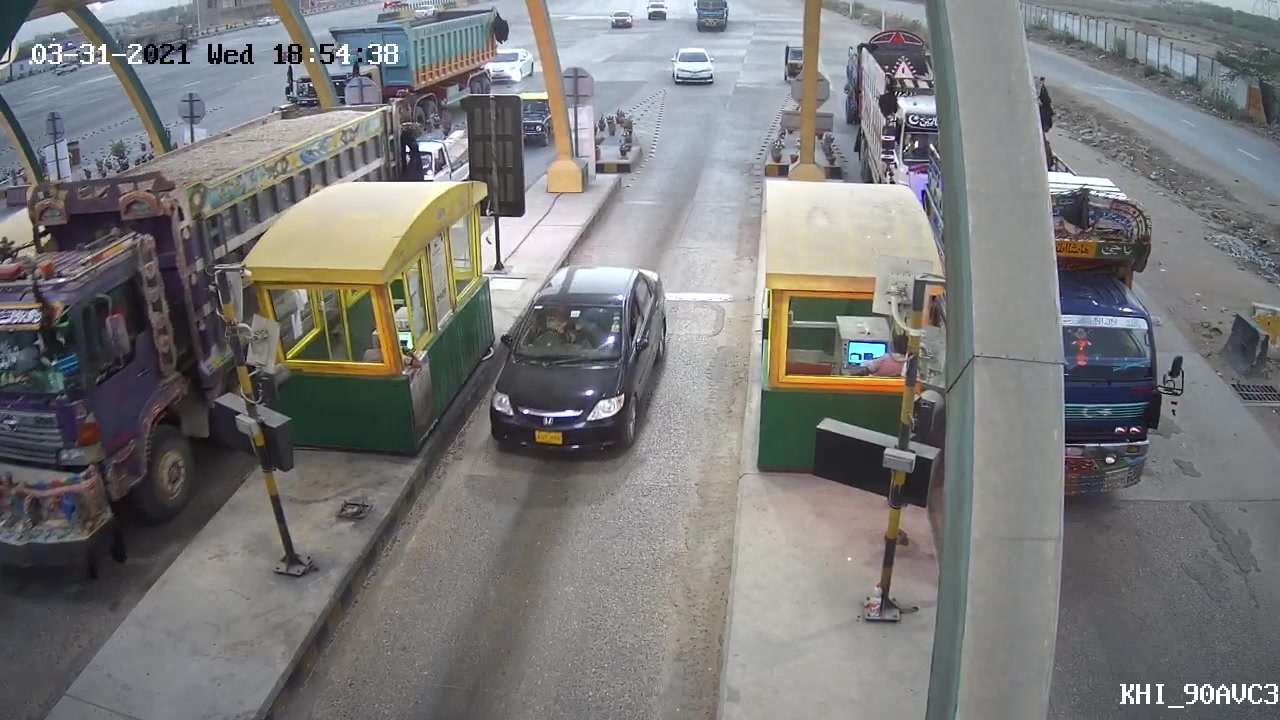F1: (485, 260, 671, 460)
